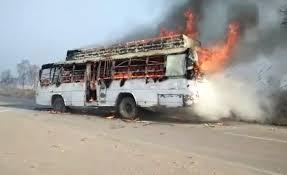fire: (188, 17, 241, 75)
